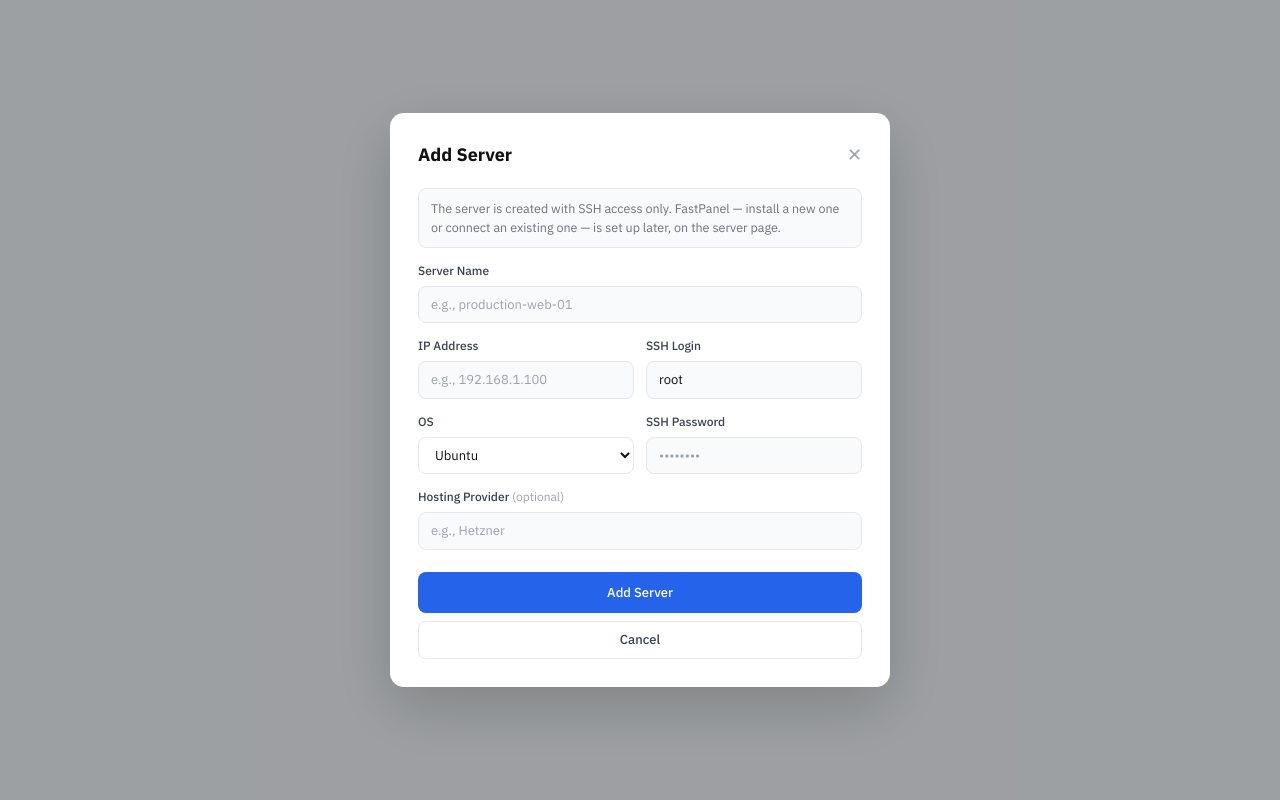
AddServerModal — SSH-пароль через блоб › упавшая запись блоба не создаёт сервер и не молчит
In the field with placeholder "e.g., production-web-01": (640,305) 418,286 -> 862,323, type "srv-1"
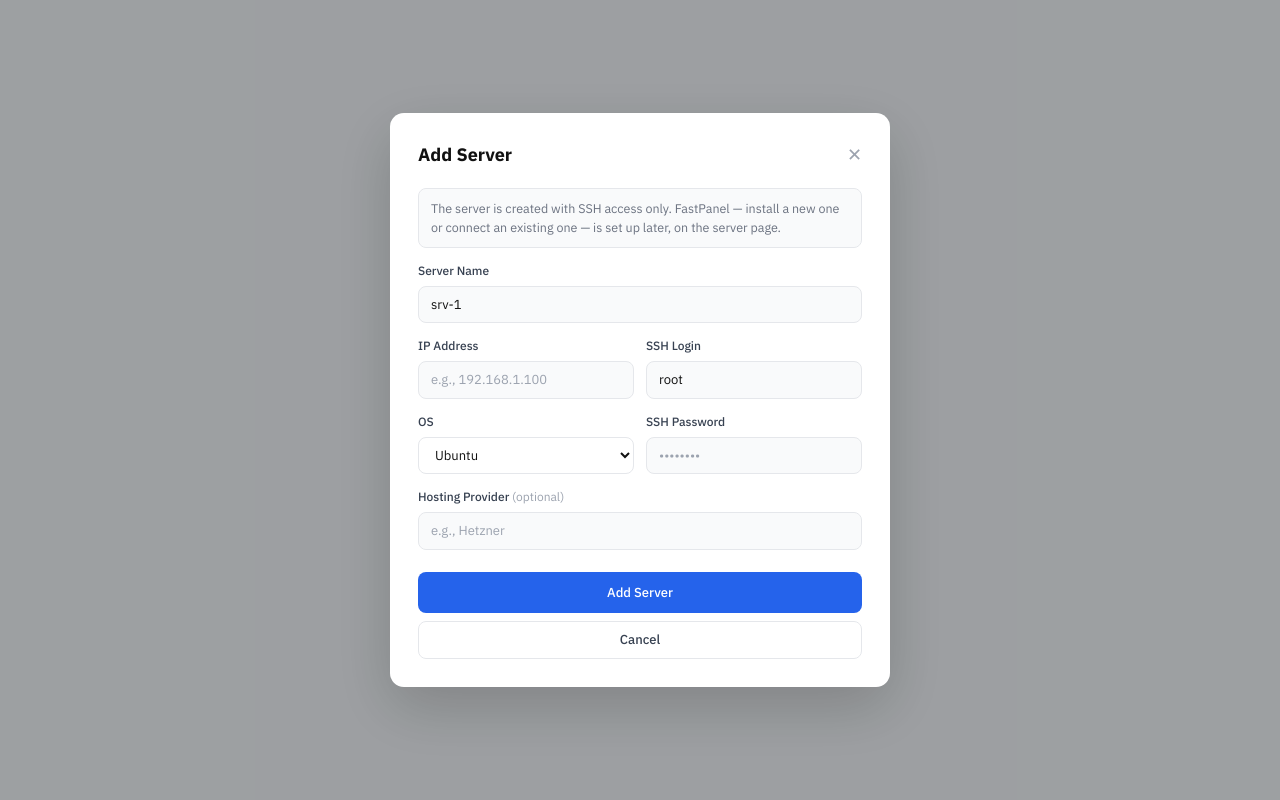
In the field with placeholder "e.g., 192.168.1.100": (526,380) 418,361 -> 634,399, type "10.0.0.7"
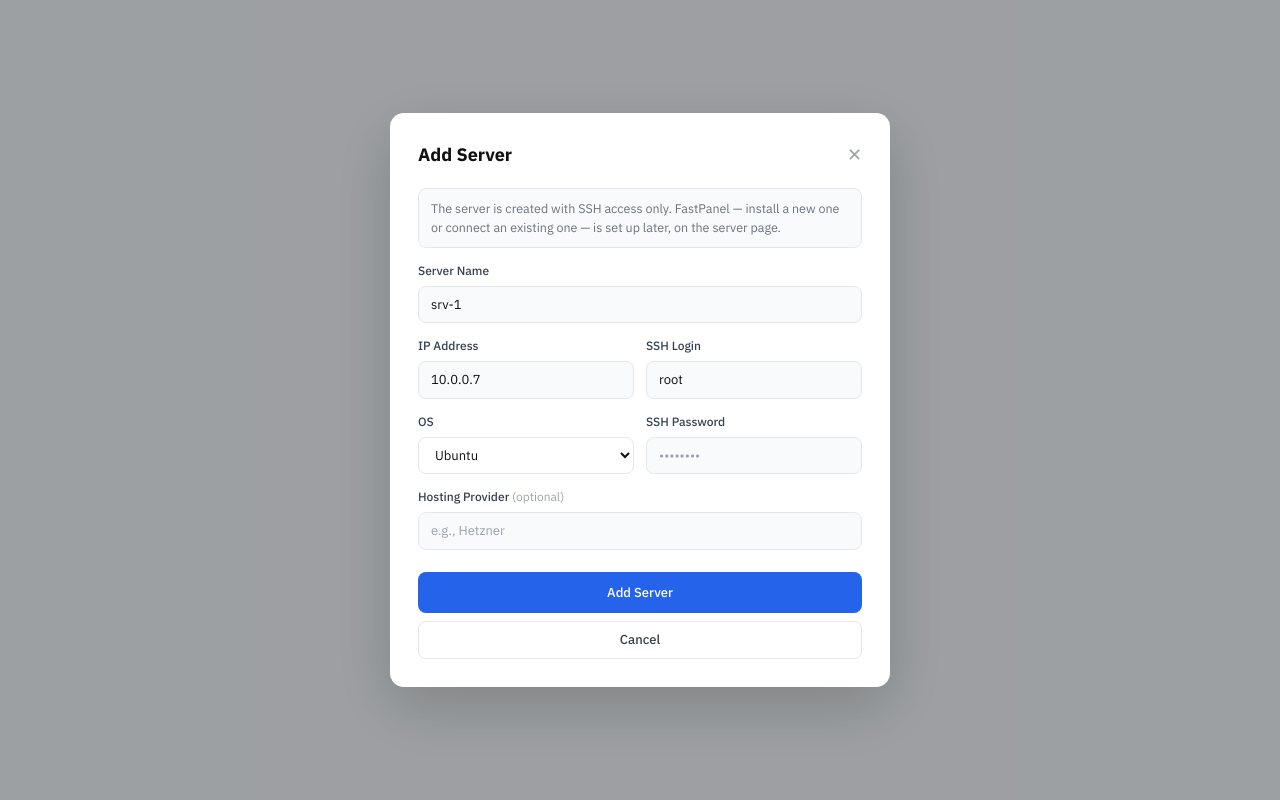
In the password field with placeholder "••••••••": (754,456) 646,437 -> 862,474, type "s3cret-ssh-pw"
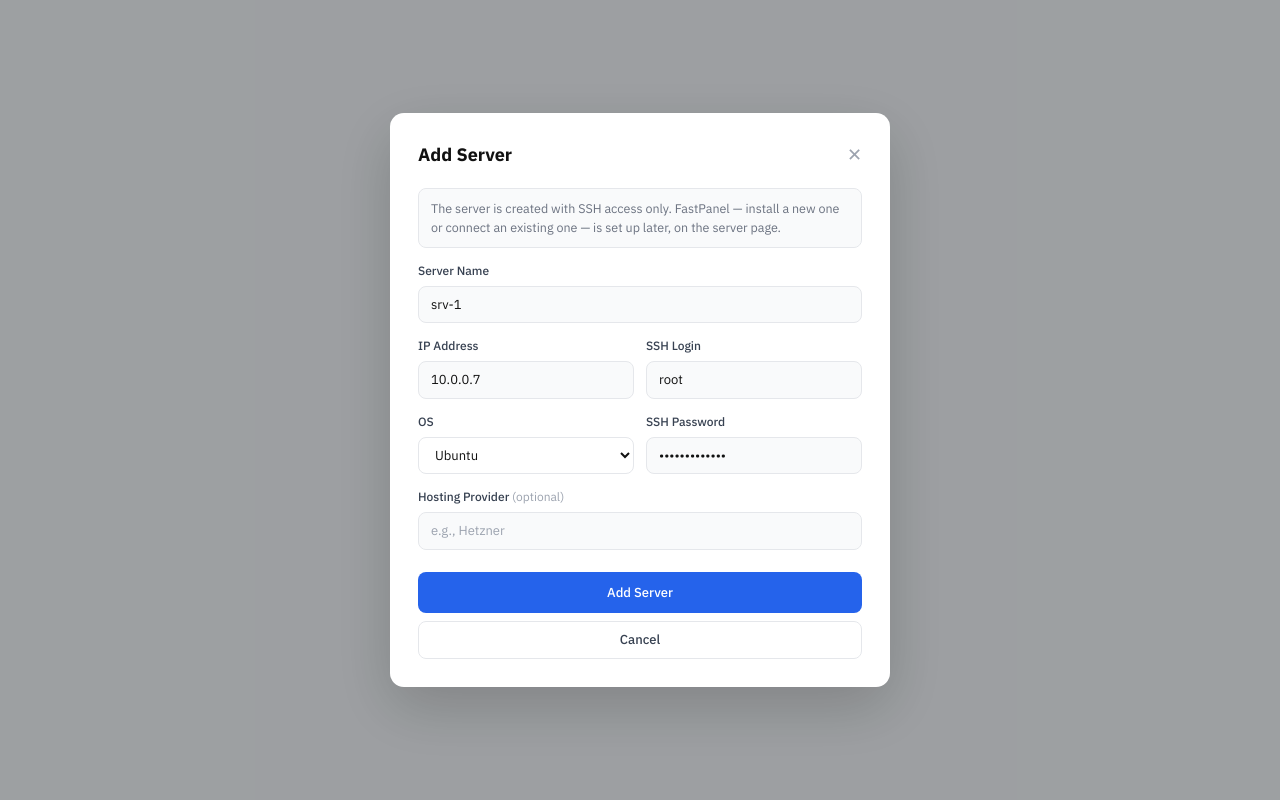
Click the button "Add Server": (640,593) 418,572 -> 862,613
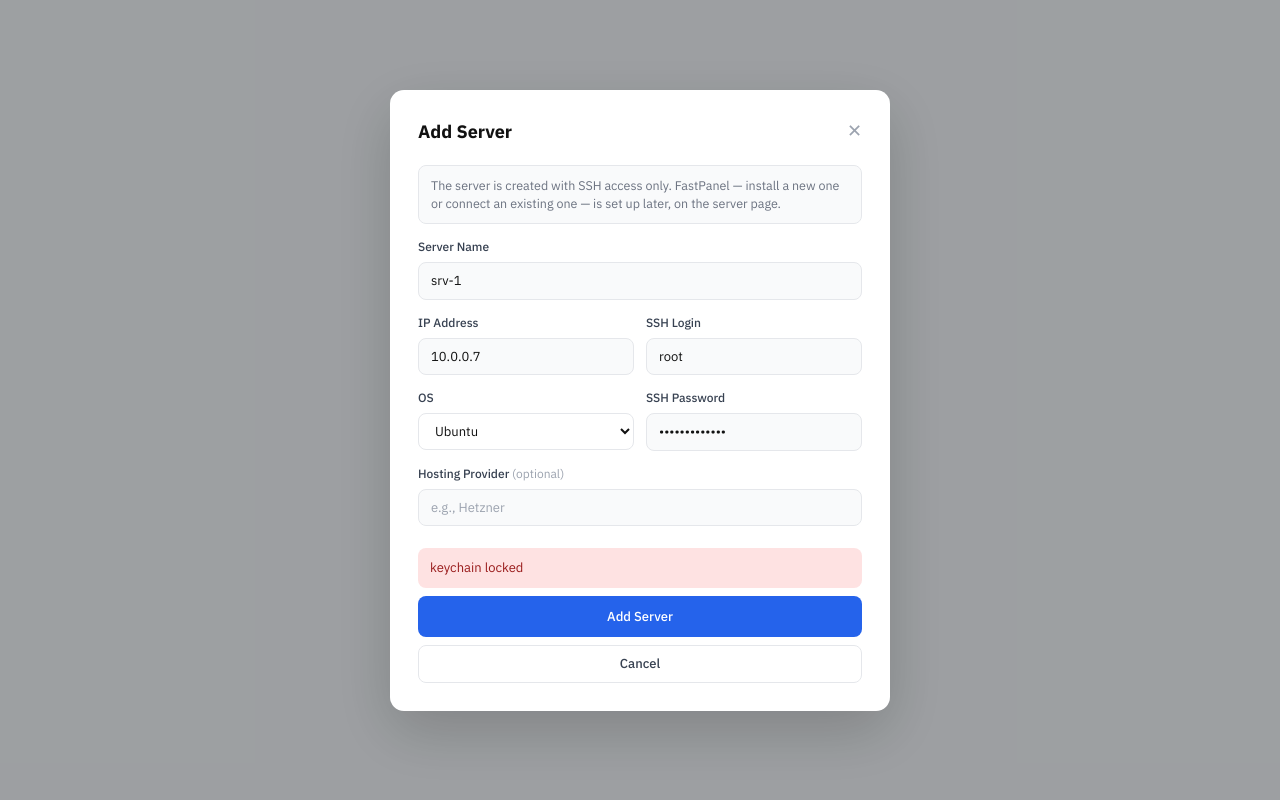
Check: the message reads "keychain locked", box 430,559 -> 523,576
